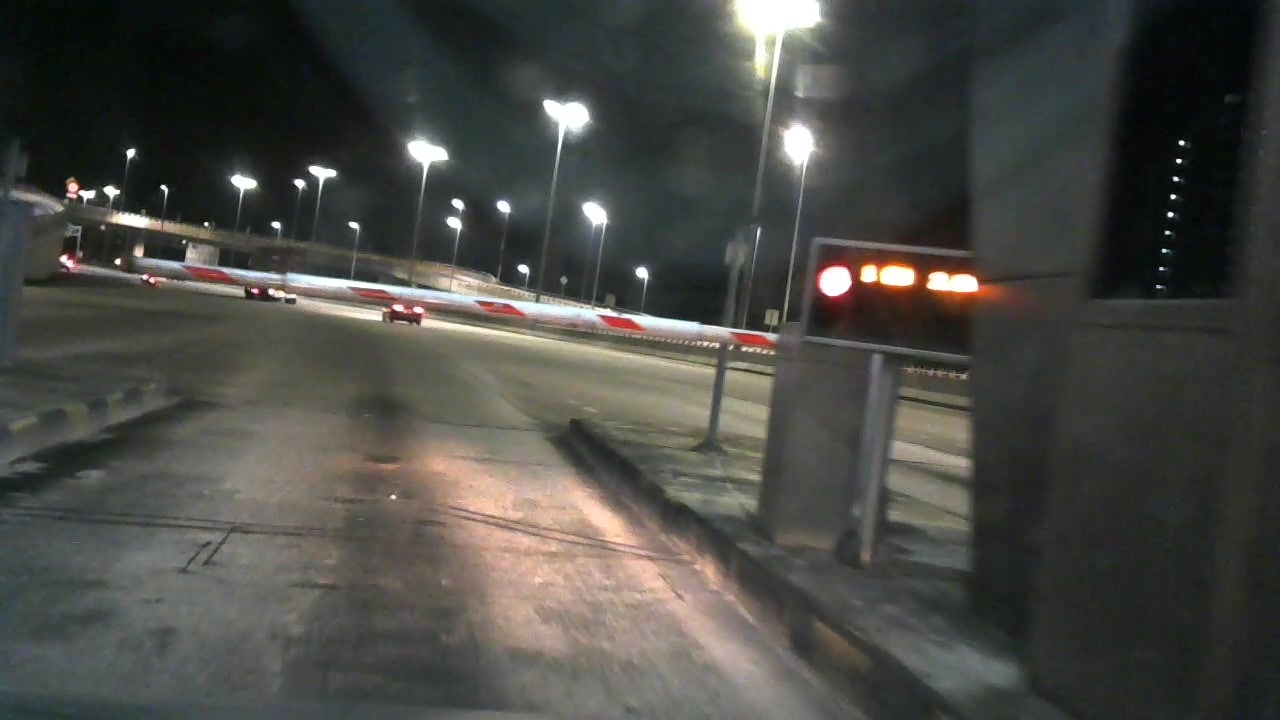Car: (238, 282, 298, 309), (376, 298, 426, 327)
